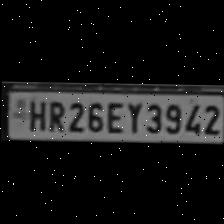2: (64, 98, 84, 132), (200, 100, 220, 134)
3: (142, 98, 162, 132)
4: (181, 100, 201, 133)
6: (82, 98, 102, 132)
9: (160, 99, 182, 133)
E: (102, 97, 124, 132)
H: (23, 96, 45, 130)
R: (43, 96, 63, 132)
Y: (122, 98, 142, 132)
